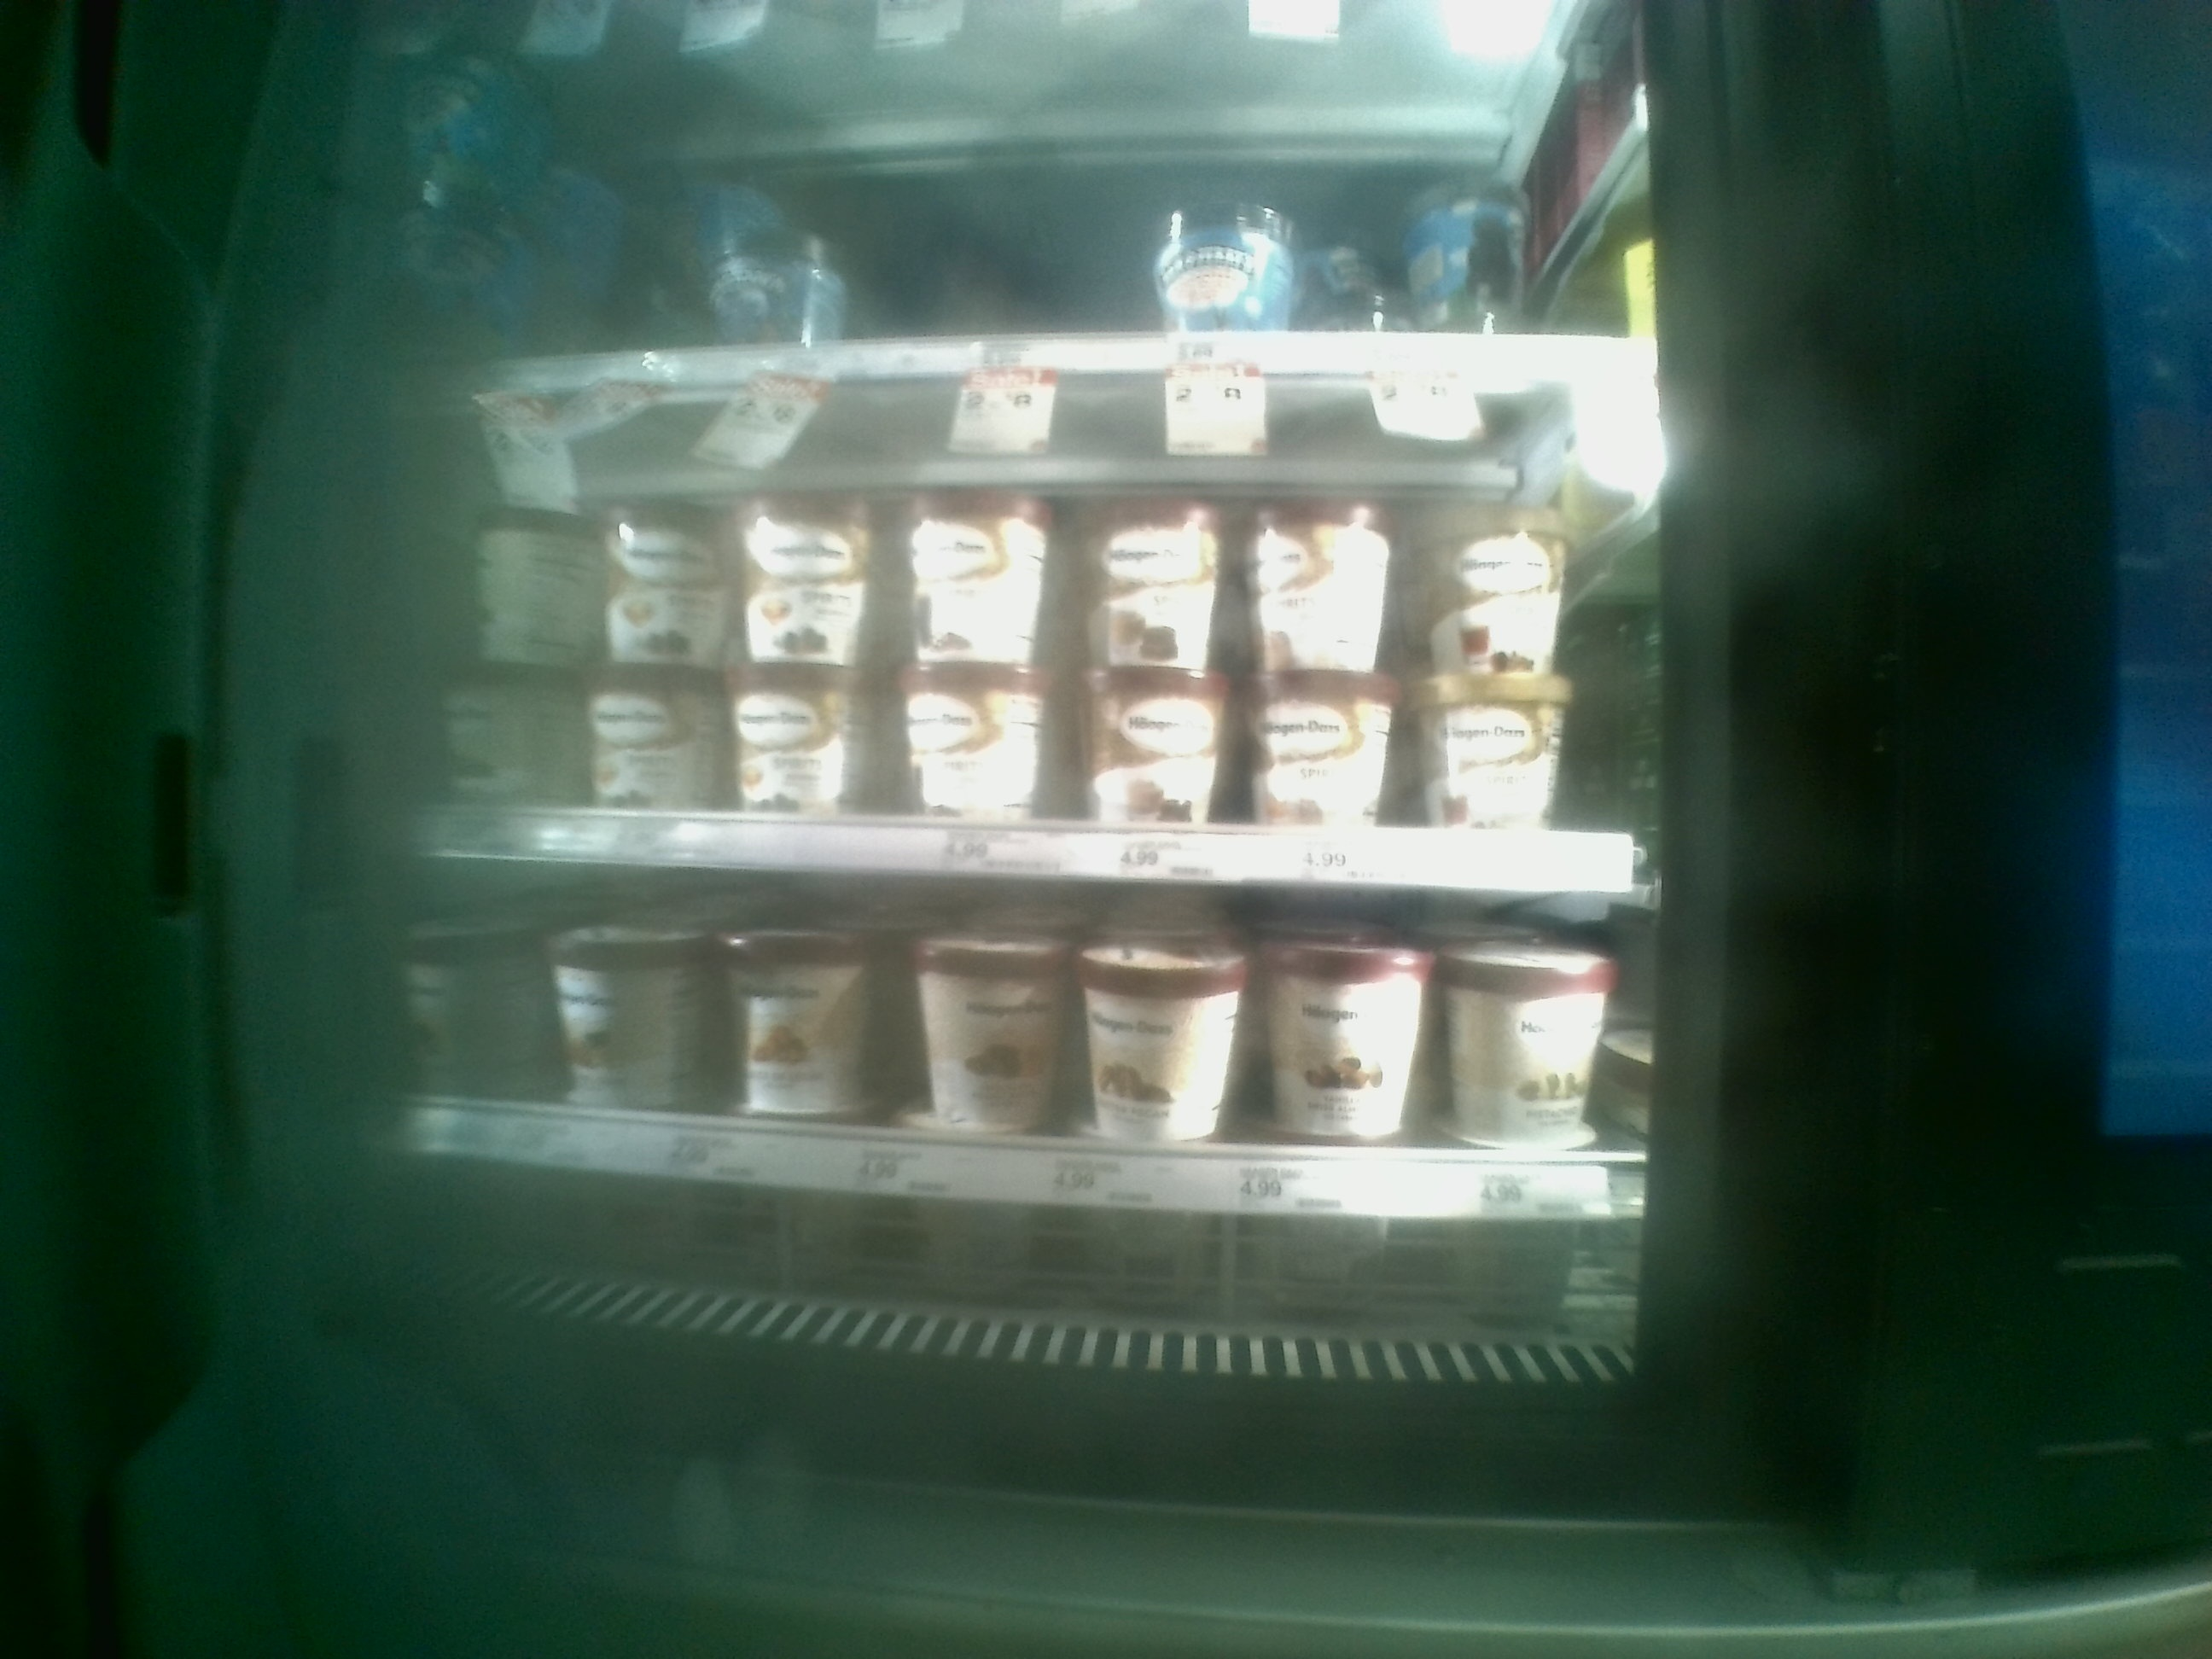shelf: (395, 369, 1667, 892), (406, 863, 1656, 1371)
